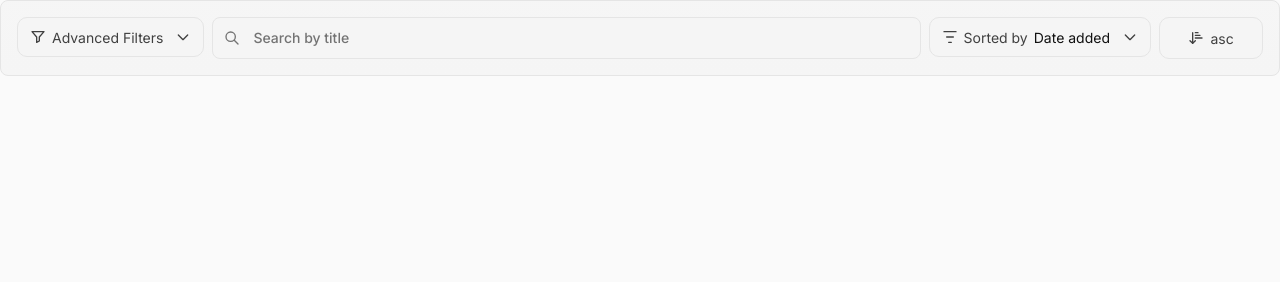
Test: MediaFilterBar movie profile › keeps the tv status chips for tv media type
Click the button "Advanced Filters": [111, 37] box [17,17,204,57]
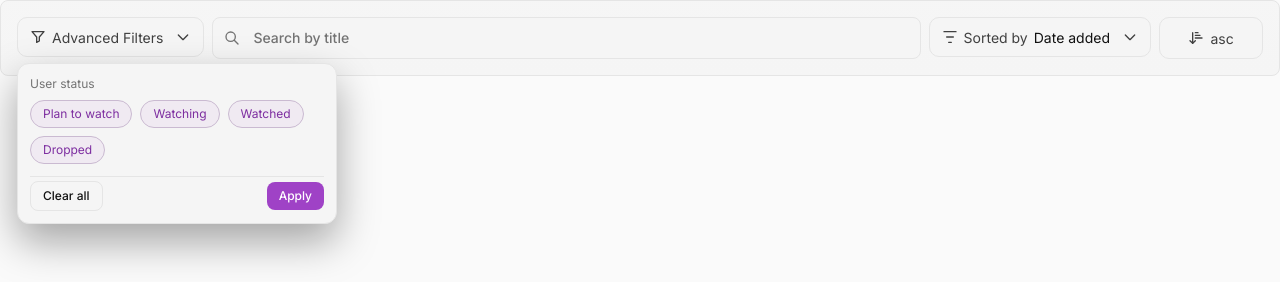
Now the button with class "chip" reads "Watching", box [140,100,220,128]
Now the number of buttons with class "chip" is 4, box [30,100,132,128]; [140,100,220,128]; [228,100,304,128]; [30,136,105,164]
